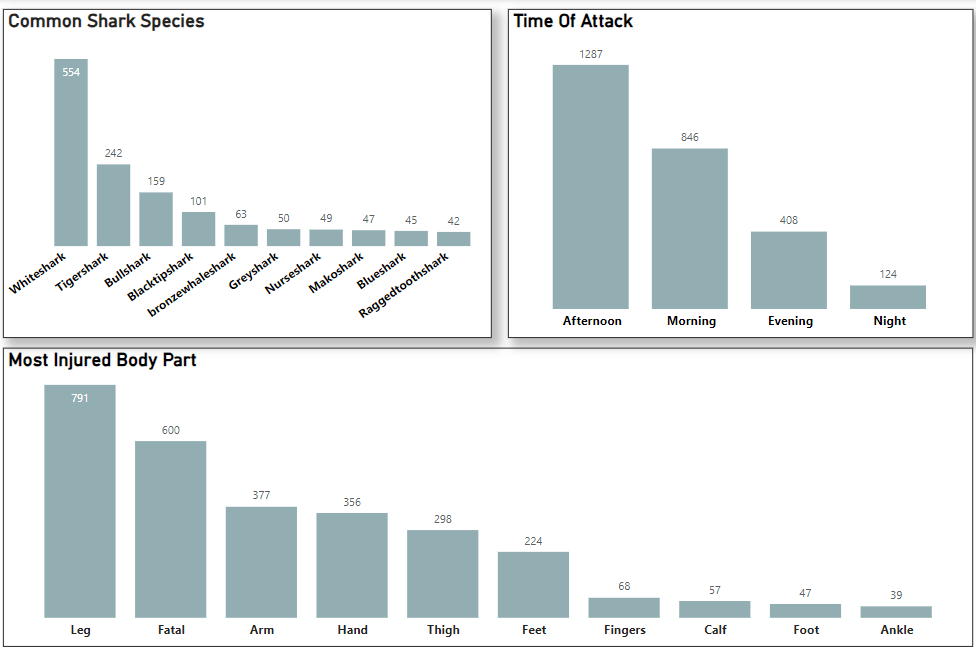

This screenshot's page, from the dashboard's own definition file:
{"tool":"powerbi","page":{"name":"Analysis","canvas":[1280,720],"ordinal":2},"visuals":[{"type":"columnChart","title":"Most Injured Body Part","fields":{"Y":["CountNonNull(Sharkattacks.CaseNumber)"],"Category":["Sharkattacks.New Injury"]},"box":[202.9,382.5,1063.9,327.7],"z":0},{"type":"columnChart","title":"Time Of Attack","fields":{"Y":["CountNonNull(Sharkattacks.CaseNumber)"],"Category":["Sharkattacks.Newtime"]},"box":[756.8,11,510,360.6],"z":1000},{"type":"columnChart","title":"Common Shark Species","fields":{"Y":["CountNonNull(Sharkattacks.CaseNumber)"],"Category":["Sharkattacks.NewSpecies.1"]},"box":[202.9,11,536.1,360.6],"z":2000},{"type":"shape","box":[0,0,183.7,719.8],"z":3000}]}

Visuals, with their boxes on the page's 1280x720 design canvas (x1, y1, x2, y2). These are canvas units, not pixel positions in the 976x649 screenshot, which may show the page scaled, cropped or inside an application window:
"Most Injured Body Part" columnChart: locate(203, 382, 1267, 710)
"Time Of Attack" columnChart: locate(757, 11, 1267, 372)
"Common Shark Species" columnChart: locate(203, 11, 739, 372)
shape: locate(0, 0, 184, 720)
